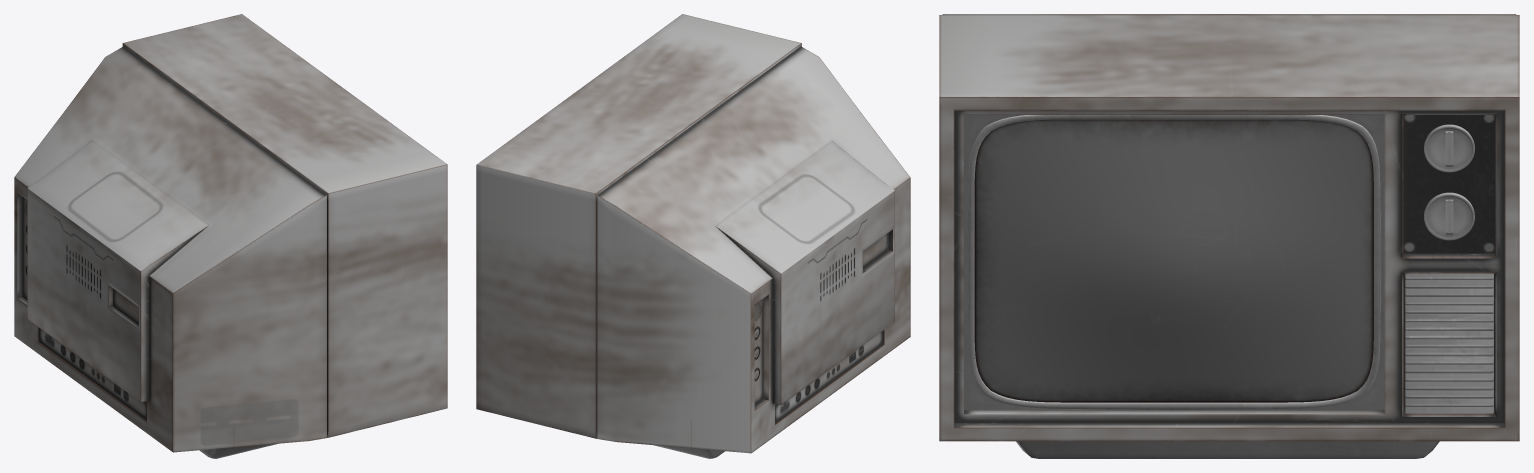
The model's file is retro_crt_television.glb.
The picture shows the model from 3 angles, left to right: view 1: azimuth 30°, elevation 25°; view 2: azimuth 150°, elevation 25°; view 3: azimuth 270°, elevation 25°; orthographic projection. The views are drawn at different scales.
Visible parts, largest first — view 1: Cube; view 2: Cube; view 3: Cube, Cube.001.
Part boxes in pixels (left/top/right/bottom): Cube: left=14, top=14, right=447, bottom=458; Cube: left=476, top=14, right=910, bottom=458; Cube: left=939, top=14, right=1519, bottom=458; Cube.001: left=974, top=119, right=1373, bottom=402.
Size of the model in its own units: 2.32 by 2.26 by 3.11.
1 material, 1 textured.
